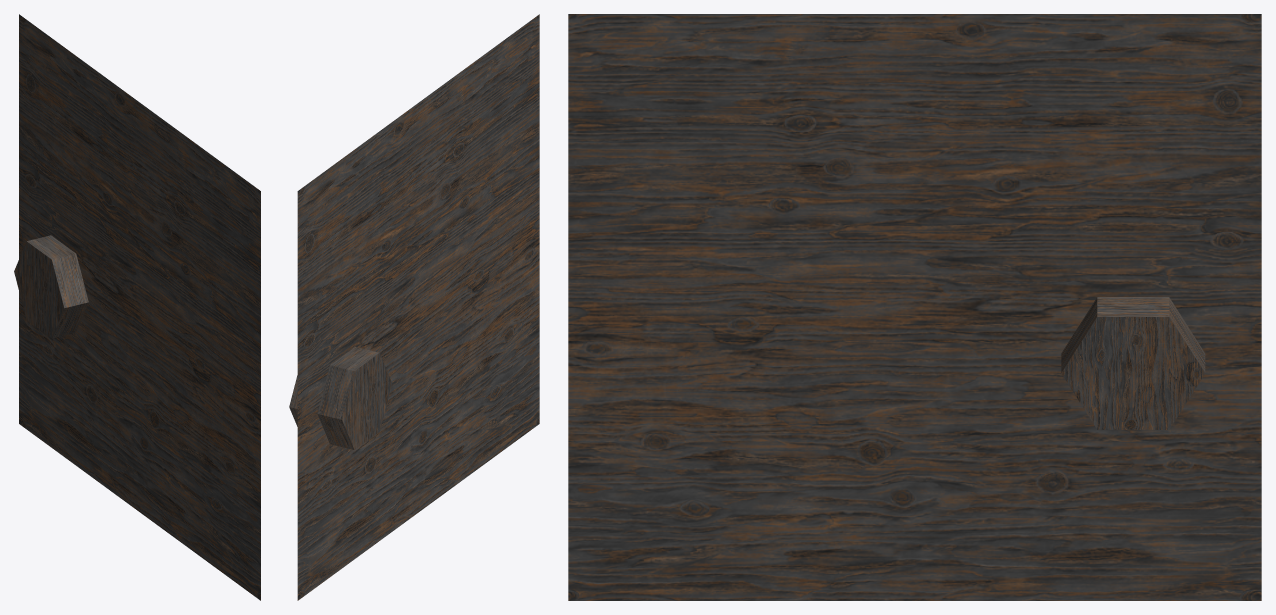
Rendered from CubbyOpen.fbx.
3 renders of one model, left to right at view 1: azimuth 30°, elevation 25°; view 2: azimuth 150°, elevation 25°; view 3: azimuth 270°, elevation 25°, orthographic. The views are drawn at different scales.
Visible parts, largest first — view 1: locker door; view 2: locker door; view 3: locker door.
Part boxes in pixels (x1,y1,x2,y2): locker door: (14,14,260,600); locker door: (289,14,539,600); locker door: (568,14,1261,600).
Size of the model in its own units: 8.18 by 60.7 by 64.99.
